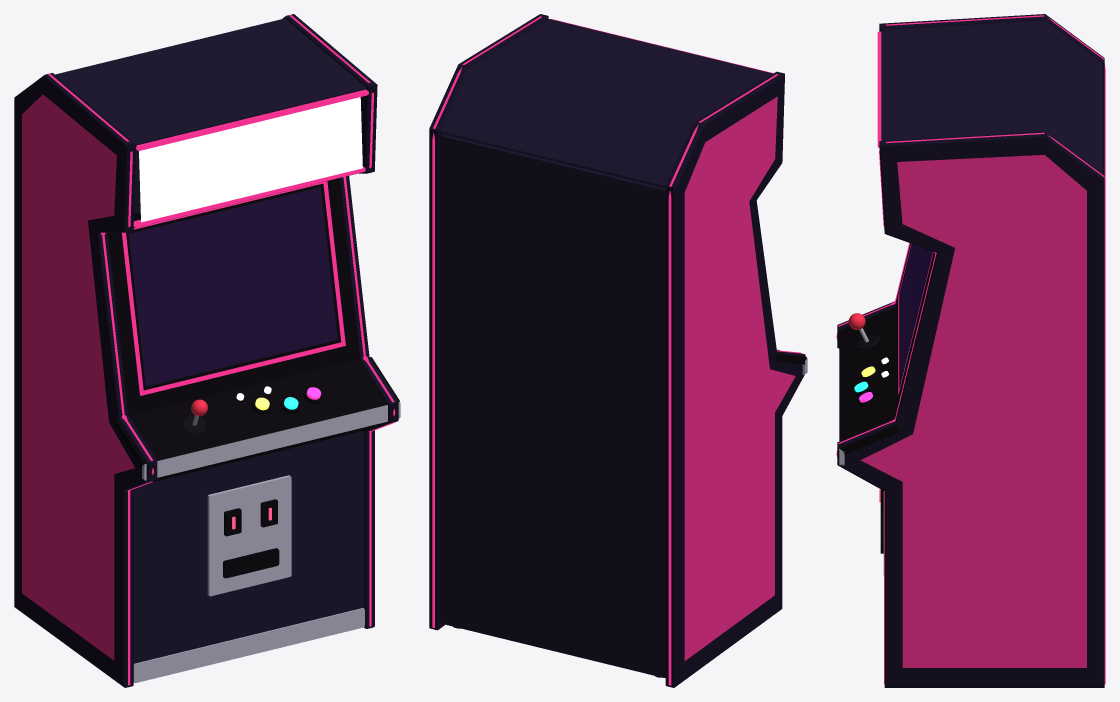
The model's file is arcade-cabinet.glb.
The picture shows the model from 3 angles, left to right: view 1: azimuth 30°, elevation 25°; view 2: azimuth 150°, elevation 25°; view 3: azimuth 270°, elevation 25°; orthographic projection. The views are drawn at different scales.
Parts seen in each view (by area): view 1: SideArt_L, FrontLower, Screen, Roof, Side_L, Marquee, ControlPanel, Bezel, CoinDoorPlate, Side_R, KickPlate, PanelLip (+7 smaller); view 2: Back, SideArt_L, Side_L, RoofBack, Roof, Side_R, Trim_L, Trim_R; view 3: SideArt_R, Side_R, Roof, RoofBack, ControlPanel, Side_L, Screen, Trim_R, Trim_L, Bezel, Trim_MarqueeTop.
Part boxes in pixels (x1=…): SideArt_L: x1=22, y1=94, x2=134, y2=660; FrontLower: x1=133, y1=431, x2=364, y2=663; Screen: x1=128, y1=187, x2=337, y2=386; Roof: x1=55, y1=18, x2=366, y2=150; Side_L: x1=14, y1=73, x2=157, y2=687; Marquee: x1=139, y1=97, x2=362, y2=222; ControlPanel: x1=114, y1=357, x2=399, y2=467; Bezel: x1=107, y1=178, x2=358, y2=415; CoinDoorPlate: x1=207, y1=475, x2=291, y2=596; Side_R: x1=282, y1=14, x2=398, y2=628; KickPlate: x1=133, y1=608, x2=364, y2=683; PanelLip: x1=142, y1=402, x2=400, y2=480; Back: x1=439, y1=134, x2=665, y2=677; SideArt_L: x1=684, y1=96, x2=795, y2=660; Side_L: x1=665, y1=71, x2=805, y2=687; RoofBack: x1=440, y1=68, x2=693, y2=188; Roof: x1=469, y1=19, x2=772, y2=123; Side_R: x1=429, y1=14, x2=548, y2=630; Trim_L: x1=668, y1=74, x2=801, y2=685; Trim_R: x1=432, y1=16, x2=541, y2=627; SideArt_R: x1=860, y1=155, x2=1086, y2=667; Side_R: x1=837, y1=131, x2=1104, y2=687; Roof: x1=881, y1=20, x2=1044, y2=140; RoofBack: x1=1044, y1=21, x2=1102, y2=173; ControlPanel: x1=839, y1=307, x2=900, y2=454; Side_L: x1=837, y1=14, x2=1104, y2=348; Screen: x1=900, y1=244, x2=932, y2=384; Trim_R: x1=836, y1=132, x2=1105, y2=684; Trim_L: x1=836, y1=15, x2=1105, y2=339; Bezel: x1=897, y1=252, x2=935, y2=408; Trim_MarqueeTop: x1=877, y1=31, x2=881, y2=147.
Bounding box in the file's own units: 1.12 × 2.32 × 1.02.
